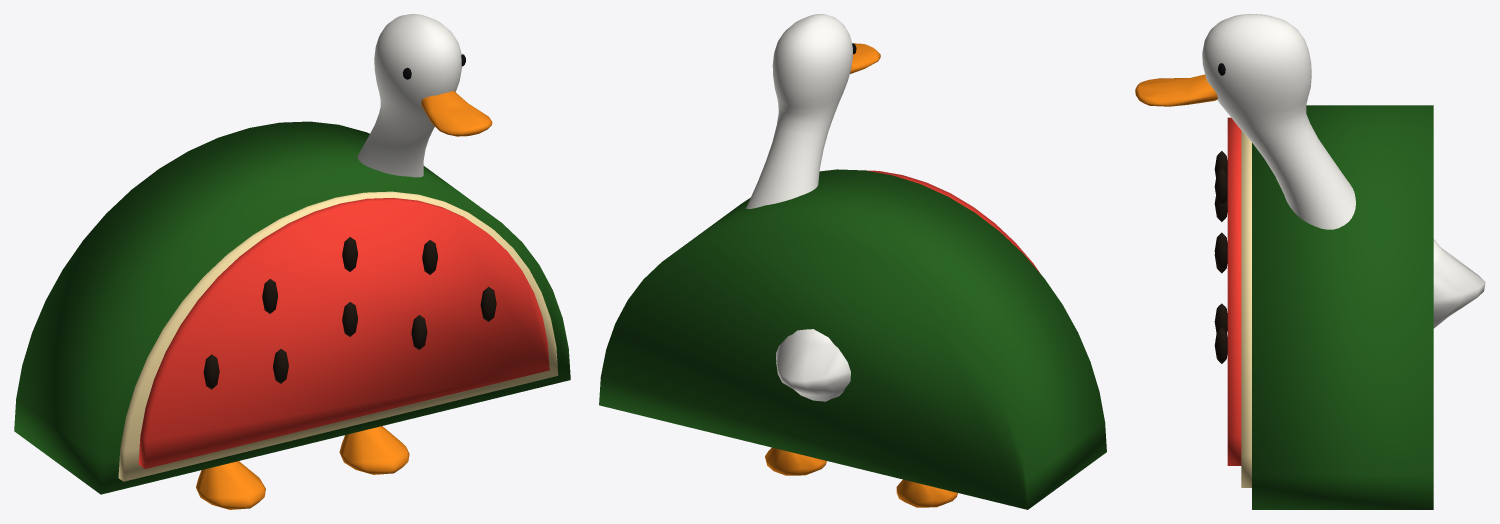
Rendered from duck-watermelon.glb.
3 renders of one model, left to right at view 1: azimuth 30°, elevation 25°; view 2: azimuth 150°, elevation 25°; view 3: azimuth 270°, elevation 25°, orthographic. The views are drawn at different scales.
Parts seen in each view (by area): view 1: duck-watermelon; view 2: duck-watermelon; view 3: duck-watermelon.
Boxes of the visible parts, x1,y1,x2,y2 form: duck-watermelon: (14,14,570,509); duck-watermelon: (599,14,1106,509); duck-watermelon: (1135,14,1485,509).
Size of the model in its own units: 1 by 0.9439 by 0.6152.
Materials: 1 (1 with a texture image).
